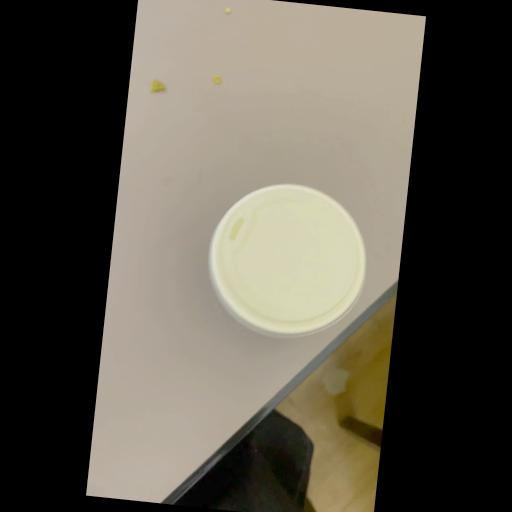lp_cup_lids: (200, 174, 374, 344)
